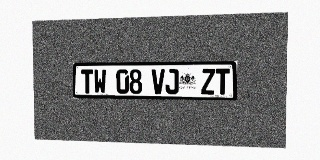0: (116, 69, 129, 94)
8: (129, 69, 142, 94)
J: (165, 69, 179, 94)
T: (215, 69, 230, 95), (81, 69, 93, 94)
V: (152, 69, 165, 94)
W: (94, 69, 106, 94)
Z: (201, 69, 215, 95)
